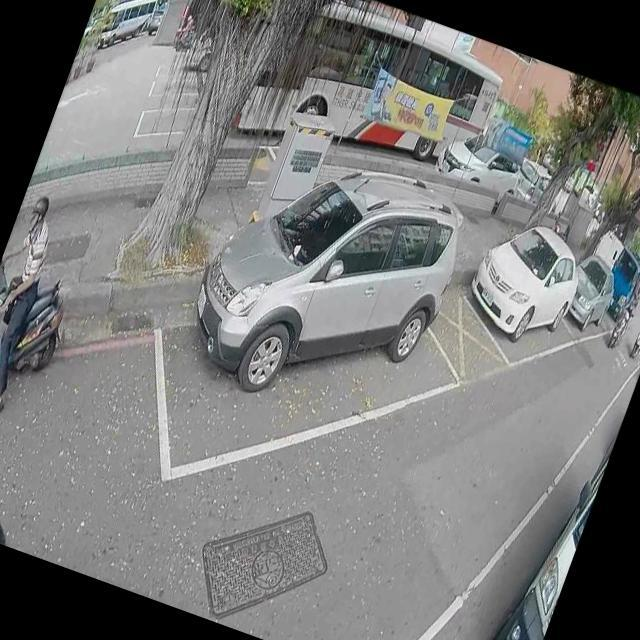person: (0, 187, 78, 424), (614, 290, 640, 334), (0, 505, 17, 546), (179, 11, 199, 42)
